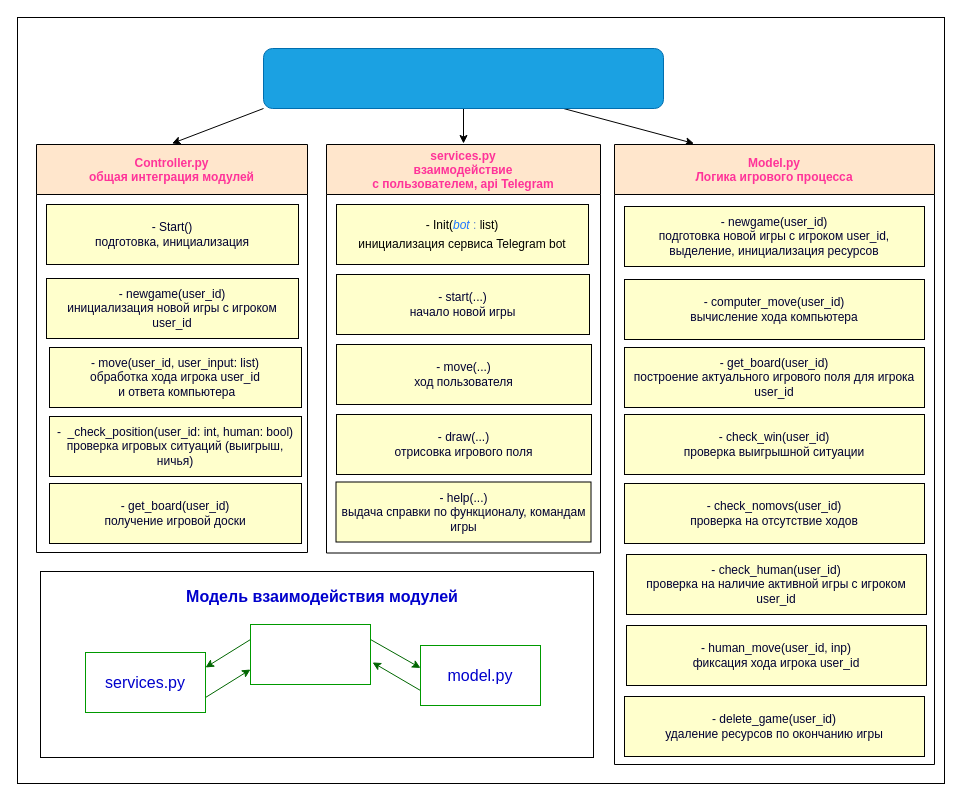
This 962x801 diagram has some shape labels left out. Each missing label, with the centre of its shape:
controller.py: point 310,654
Задача: point 463,78
